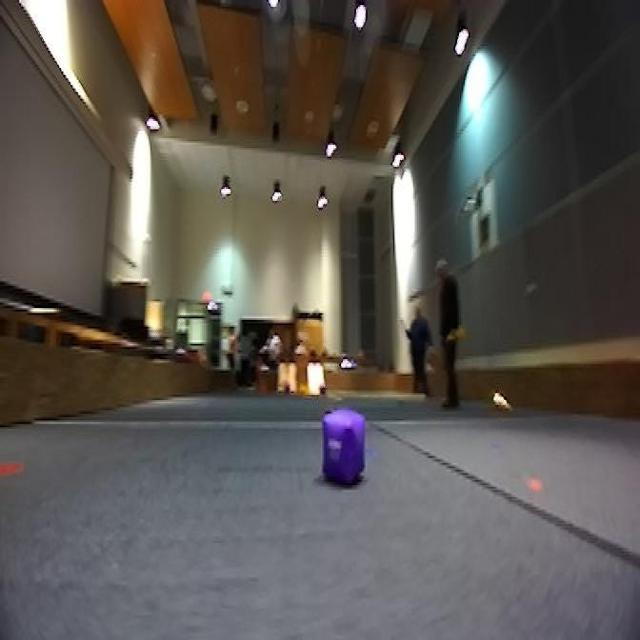frc_cone: (494, 386, 512, 412), (446, 324, 466, 346), (290, 382, 312, 398)
frc_cube: (320, 408, 367, 487), (279, 379, 293, 396), (319, 382, 331, 398)
